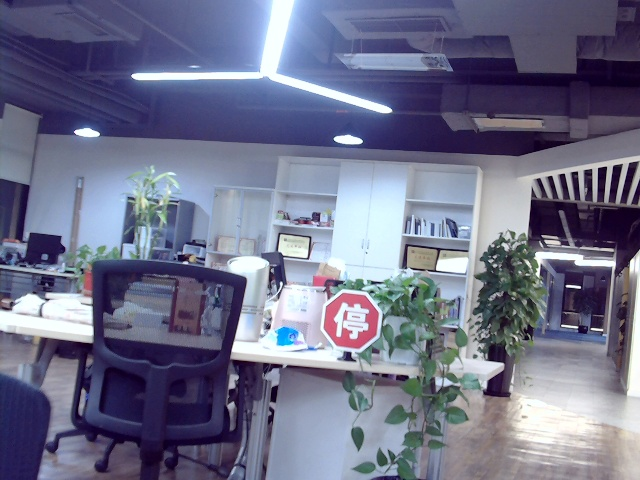stop: (333, 297, 369, 341)
